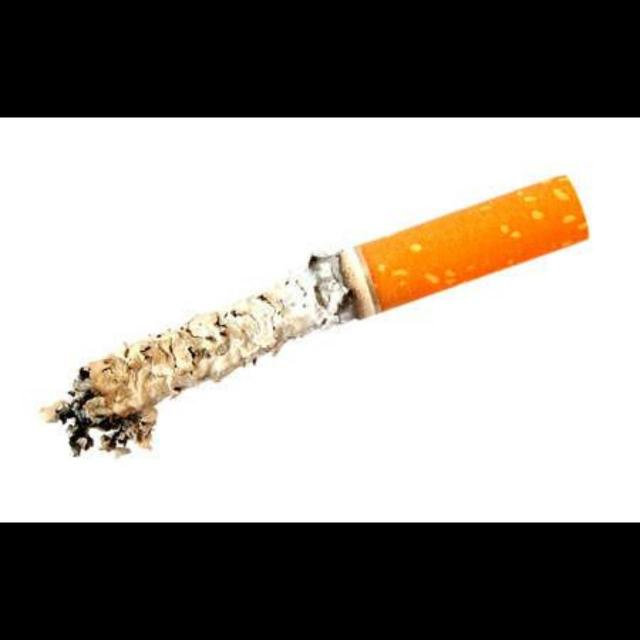cigarette: (40, 176, 589, 459)
